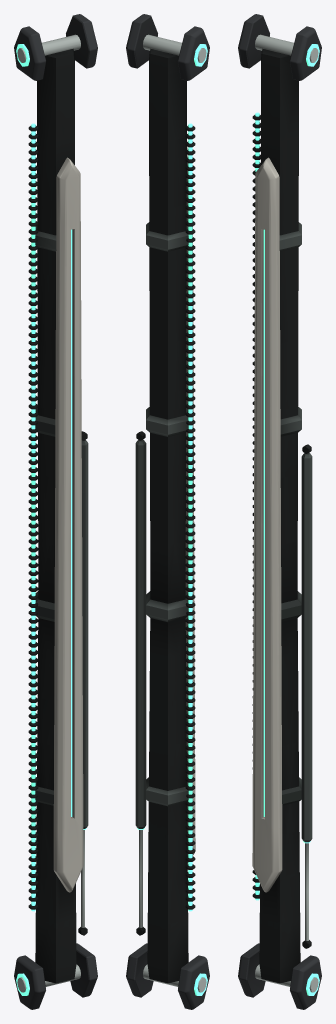
Rendered from bastion.leg_6.glb.
The picture shows the model from 3 angles, left to right: view 1: azimuth 30°, elevation 25°; view 2: azimuth 150°, elevation 25°; view 3: azimuth 330°, elevation 25°; orthographic projection.
Size of the model in its own units: 0.4704 by 6.3 by 0.3352.
